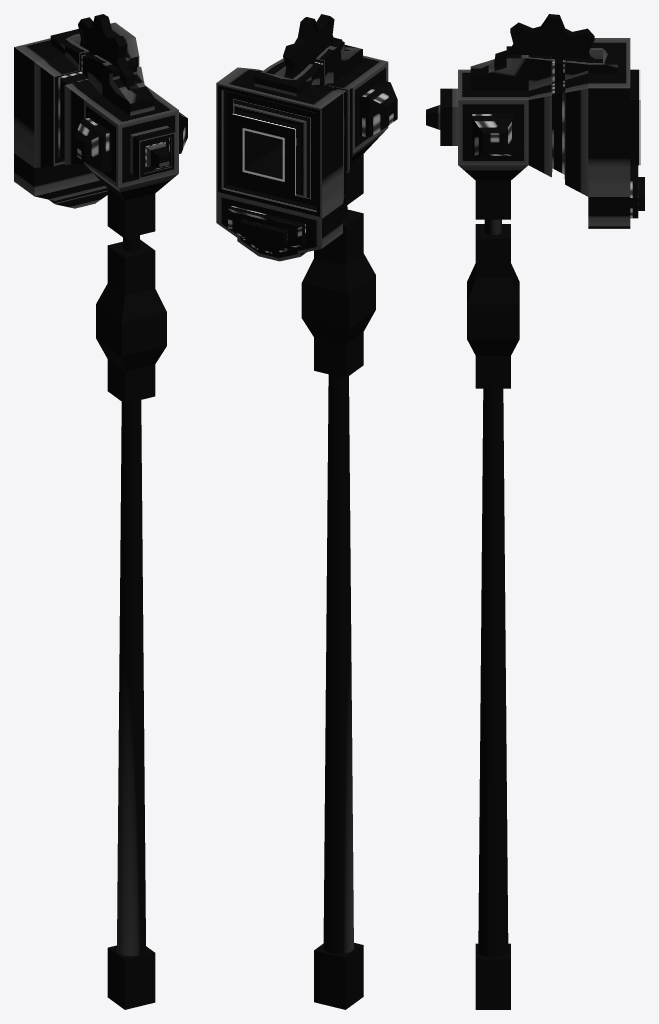
Rendered from Dispenser_2_0.fbx.
3 renders of one model, left to right at view 1: azimuth 30°, elevation 25°; view 2: azimuth 150°, elevation 25°; view 3: azimuth 270°, elevation 25°, orthographic. The views are drawn at different scales.
Parts seen in each view (by area): view 1: Dispenser, Dispenser_Prop_0, Dispenser_Prop_1, Gear; view 2: Dispenser, Dispenser_Prop_0, Dispenser_Prop_1, Gear; view 3: Dispenser, Dispenser_Prop_0, Dispenser_Prop_1, Gear.
Part boxes in pixels (bbox=[...]): Dispenser: bbox=[14, 22, 187, 208]; Dispenser_Prop_0: bbox=[107, 188, 155, 1009]; Dispenser_Prop_1: bbox=[96, 239, 166, 403]; Gear: bbox=[78, 14, 135, 89]; Dispenser: bbox=[216, 40, 397, 261]; Dispenser_Prop_0: bbox=[314, 154, 363, 1009]; Dispenser_Prop_1: bbox=[301, 209, 375, 378]; Gear: bbox=[283, 14, 342, 78]; Dispenser: bbox=[426, 38, 644, 228]; Dispenser_Prop_0: bbox=[475, 180, 510, 1009]; Dispenser_Prop_1: bbox=[467, 224, 519, 388]; Gear: bbox=[494, 14, 594, 67].
Size of the model in its own units: 1.01 by 9.08 by 1.83.
Materials: 1 (1 with a texture image).
